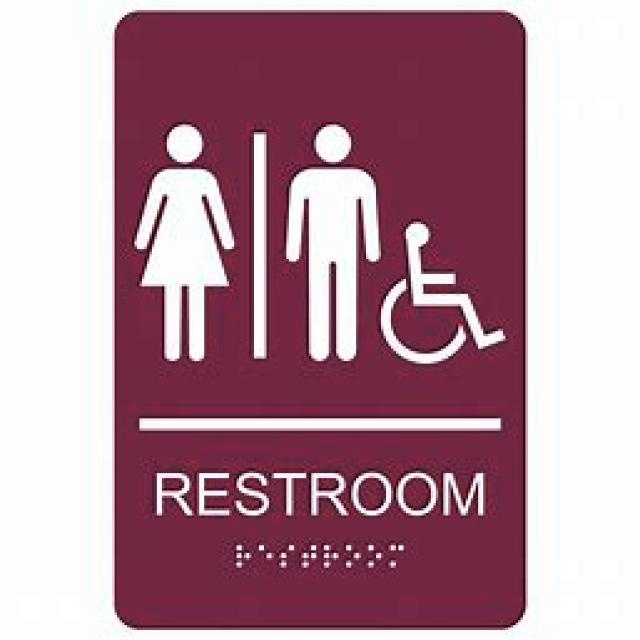ISA: (382, 218, 508, 365)
